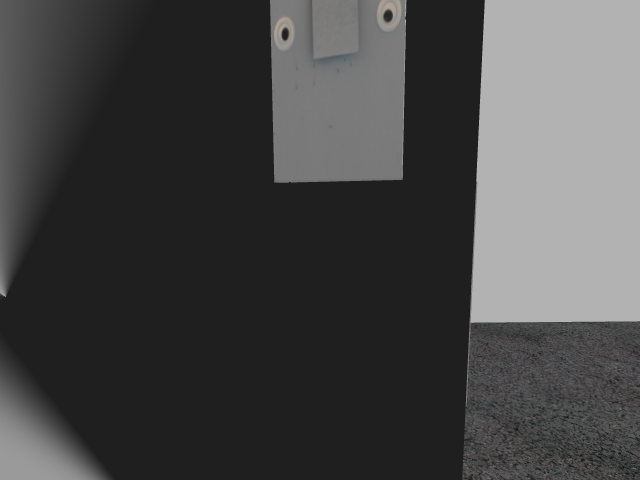facade: (273, 0, 403, 66)
